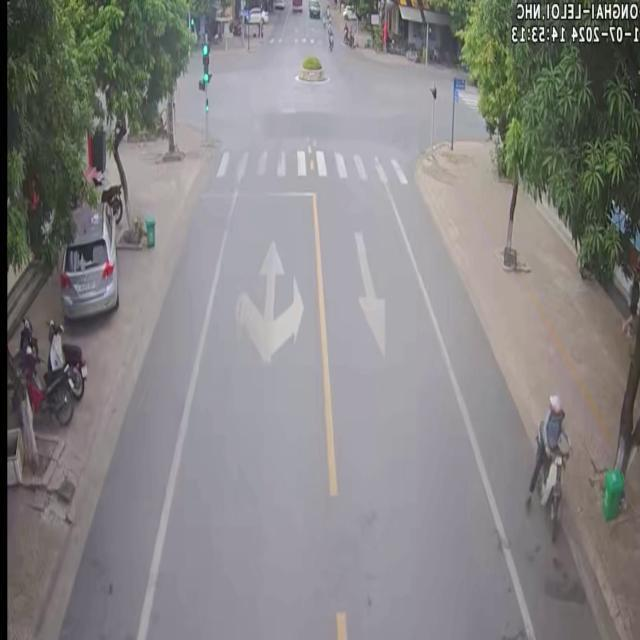car: (307, 0, 319, 18)
green_light: (200, 41, 210, 84)
motobike: (524, 394, 568, 537), (17, 345, 72, 422), (46, 318, 86, 398)
stop_line: (200, 188, 313, 197)
